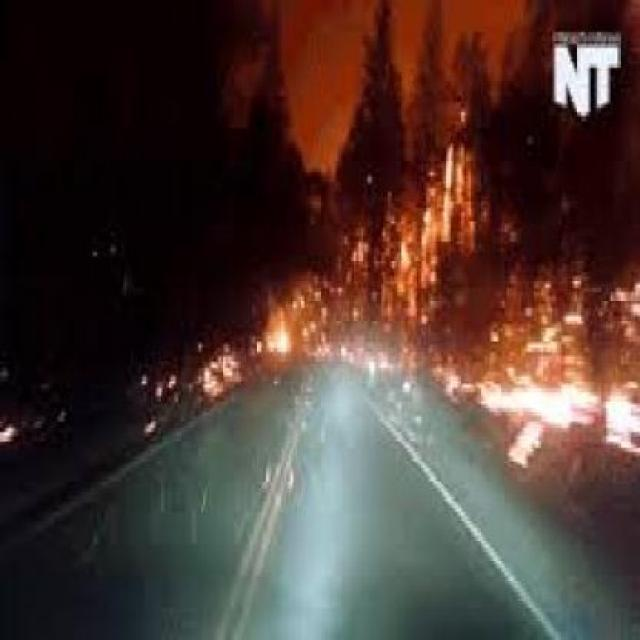Fire: (284, 259, 566, 403), (428, 271, 640, 461)
Smoke: (234, 447, 640, 640)
